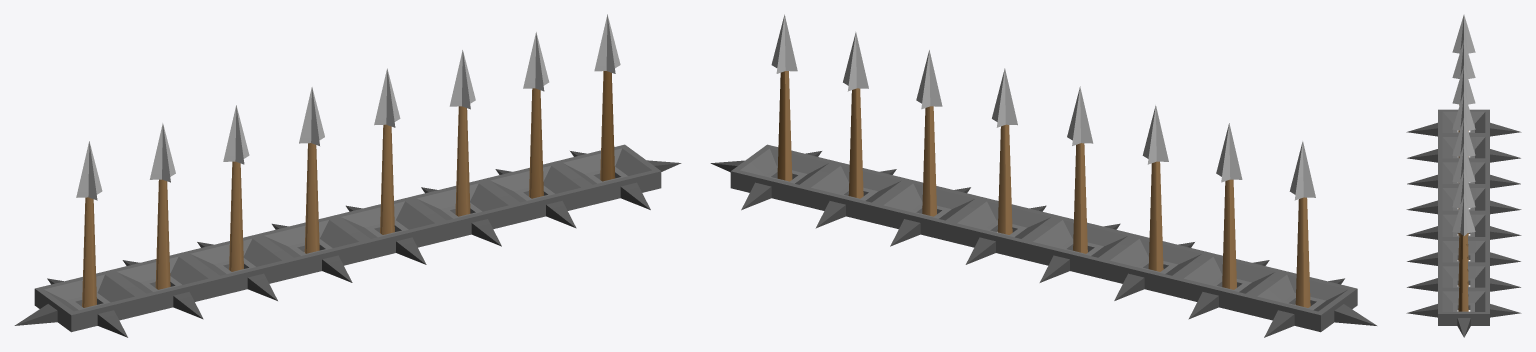
The model's file is Ground_Thorn_Trap_2.fbx.
3 views of the same model, side by side, from view 1: azimuth 30°, elevation 25°; view 2: azimuth 150°, elevation 25°; view 3: azimuth 270°, elevation 25° (orthographic). The views are drawn at different scales.
Visible parts, largest first — view 1: Ground_Thorn_Trap_2, Ground_Thorn_Trap_Arrow_2; view 2: Ground_Thorn_Trap_2, Ground_Thorn_Trap_Arrow_2; view 3: Ground_Thorn_Trap_2, Ground_Thorn_Trap_Arrow_2.
Part boxes in pixels (box(x1,y1,x2,y2)): Ground_Thorn_Trap_2: box(14, 144, 681, 337); Ground_Thorn_Trap_Arrow_2: box(76, 14, 620, 307); Ground_Thorn_Trap_2: box(710, 144, 1376, 337); Ground_Thorn_Trap_Arrow_2: box(771, 14, 1315, 307); Ground_Thorn_Trap_2: box(1406, 109, 1521, 337); Ground_Thorn_Trap_Arrow_2: box(1452, 14, 1475, 311).
Size of the model in its own units: 184 by 44.76 by 38.98.
Materials: 1 (1 with a texture image).
